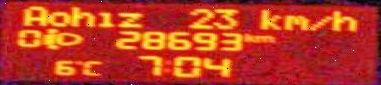0: (172, 55, 200, 78), (15, 29, 38, 47)
2: (186, 6, 212, 30), (114, 31, 140, 50)
3: (213, 7, 239, 31), (218, 31, 239, 51)
4: (202, 56, 231, 76)
6: (166, 30, 190, 51), (51, 59, 74, 75)
7: (134, 54, 160, 75)
8: (140, 31, 164, 50)
9: (190, 30, 215, 51)
X: (68, 4, 93, 27), (330, 9, 356, 31), (116, 10, 148, 27), (257, 8, 281, 29), (20, 5, 46, 24), (281, 13, 309, 30), (81, 59, 104, 78), (309, 12, 329, 29), (46, 10, 67, 25), (95, 10, 113, 27), (254, 33, 272, 44), (159, 58, 171, 74), (242, 32, 254, 41)
